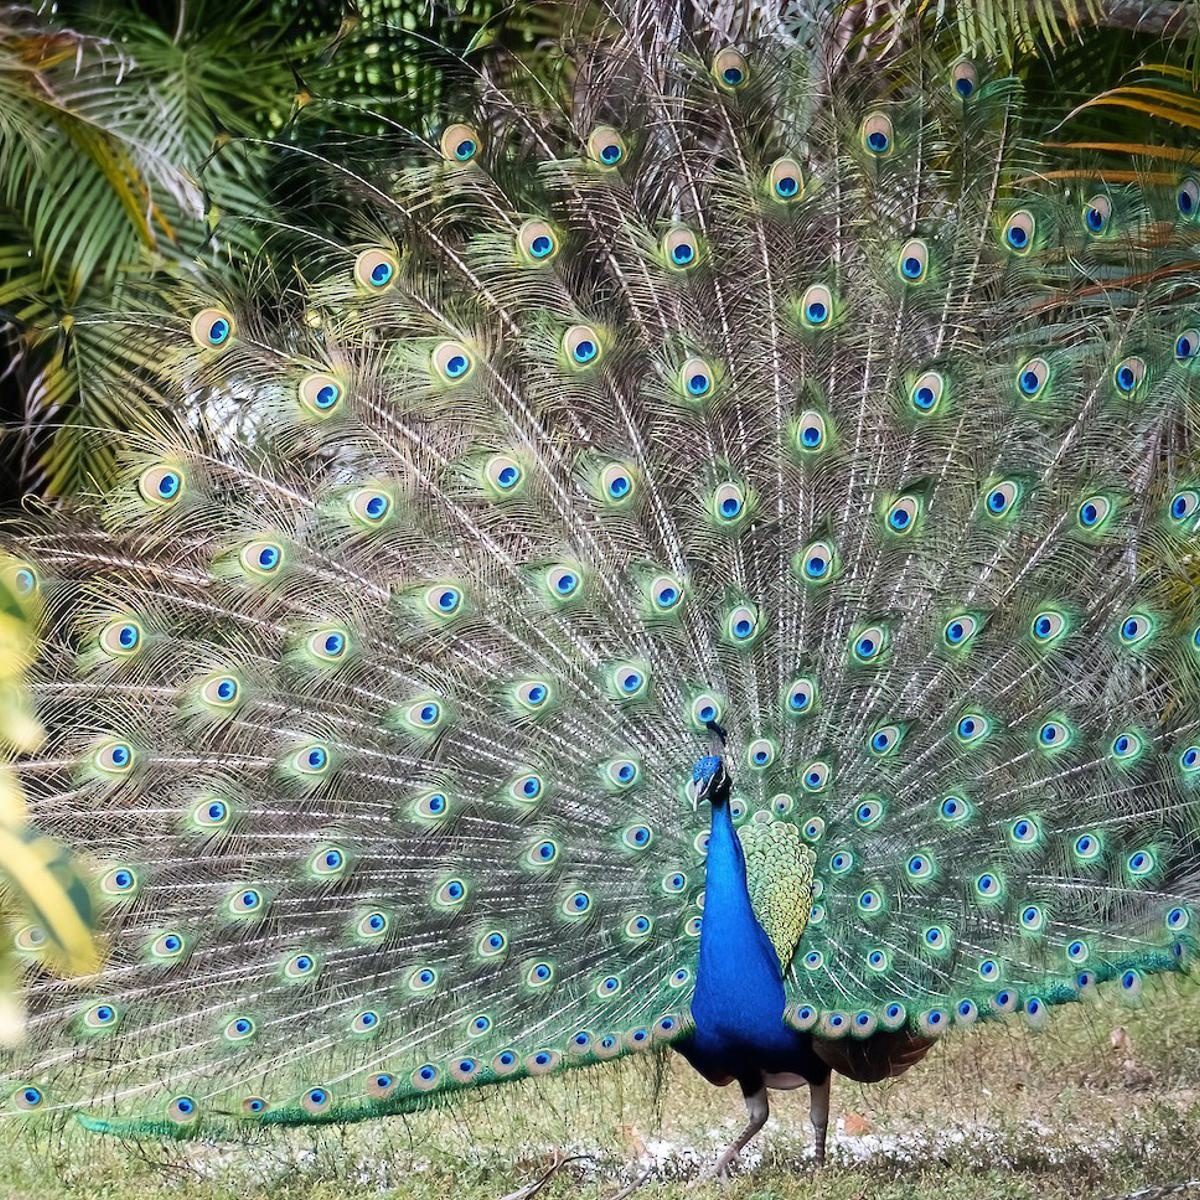peacock: (113, 133, 1200, 1163)
